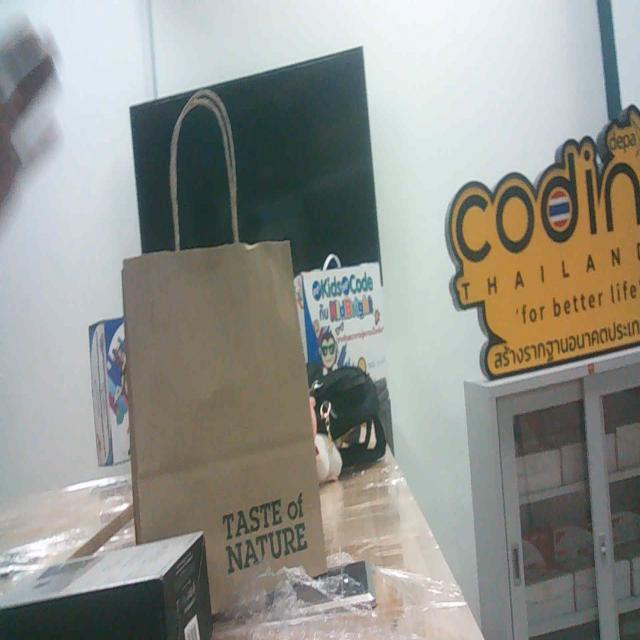bag: (123, 210, 315, 610)
